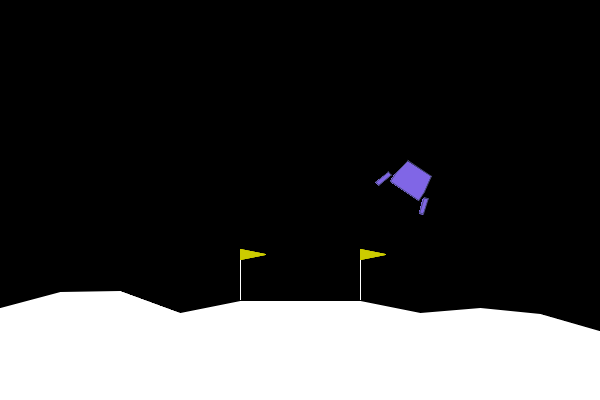lander: (373, 150, 445, 217)
